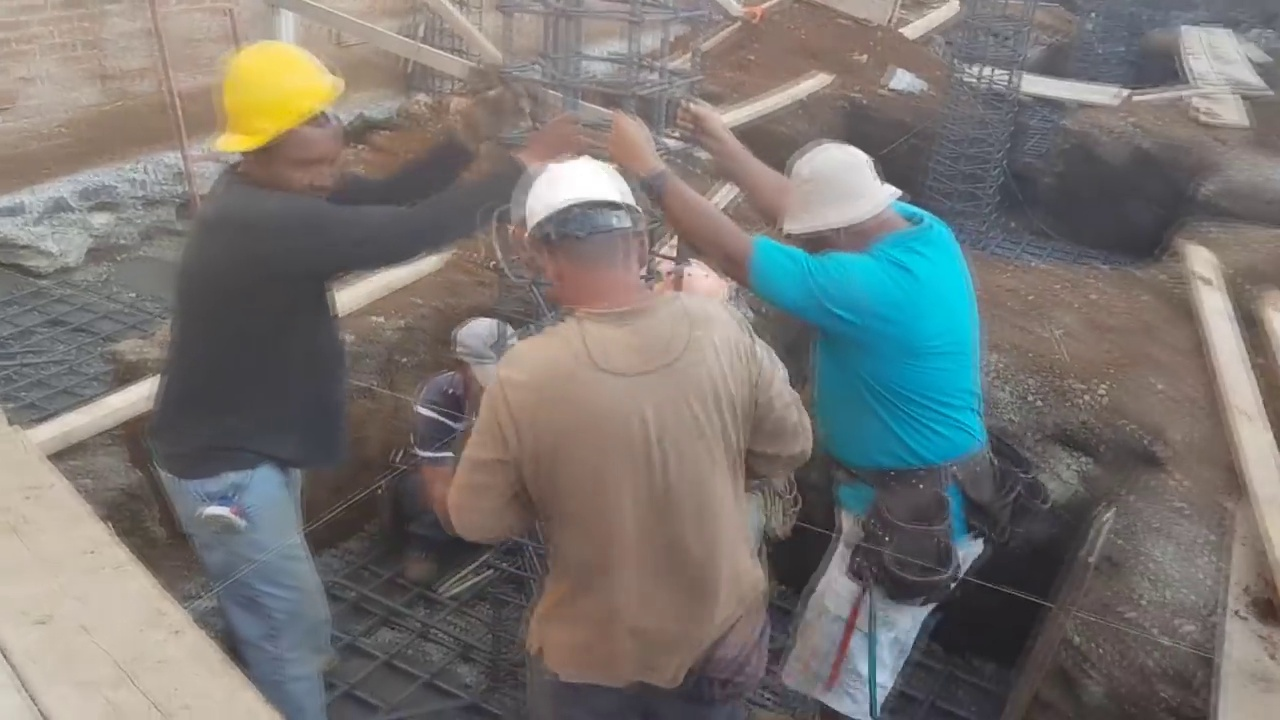helmet: (207, 40, 339, 141), (521, 153, 644, 254)
helmet-off: (780, 135, 915, 268), (452, 318, 514, 406)
helmet-on: (516, 151, 668, 323), (210, 29, 354, 203)
person: (144, 28, 537, 719), (608, 95, 1001, 719), (444, 131, 815, 720), (398, 313, 520, 587)
